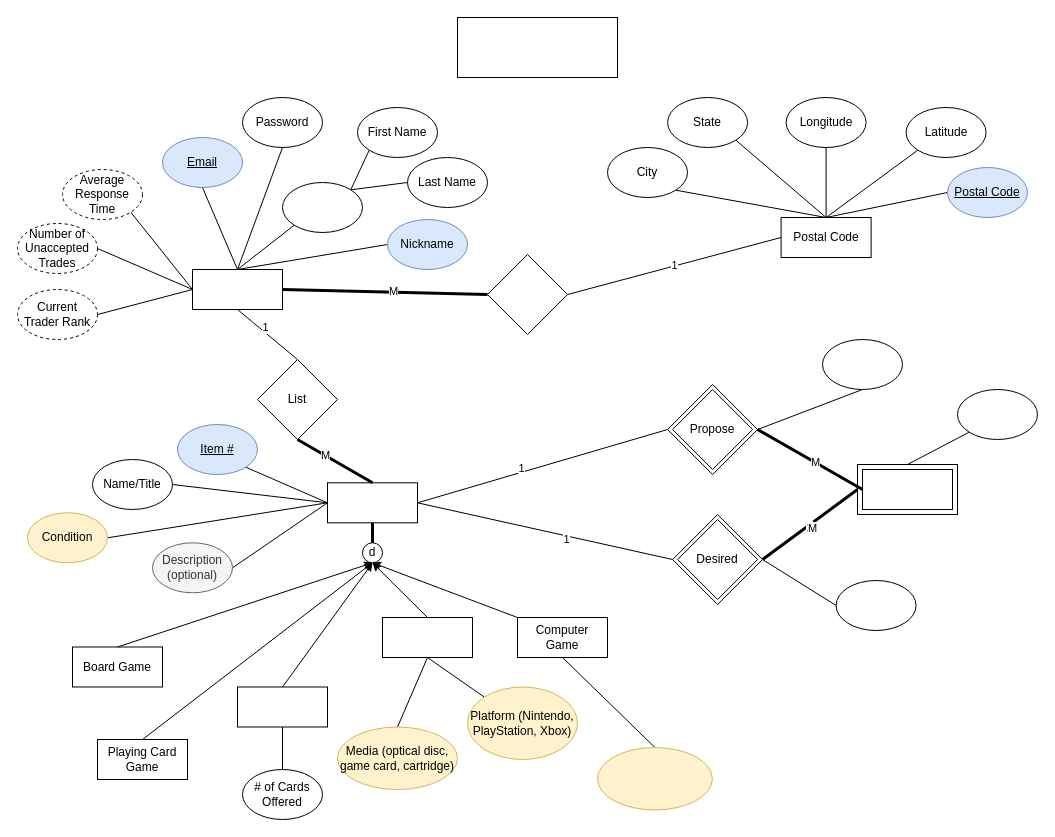
This 1055x837 diagram has some shape labels left out. The shapes that lost their labels are listed below. From the top down, each one's centre as x and y in pixels, then its label:
At point 537,47: "Team 45 EER Diagram Andi Chen".
At point 322,207: "Name".
At point 237,289: "User".
At point 527,294: "Belongs To".
At point 862,364: "Date of Proposal".
At point 997,414: "Status".
At point 372,502: "Item".
At point 907,489: "Trade".
At point 875,605: "Date of Acceptance/ Rejection".
At point 427,637: "Video Game".
At point 282,706: "Collectible Card Game".
At point 654,778: "Platform (Linux, macOS, Windows)".
